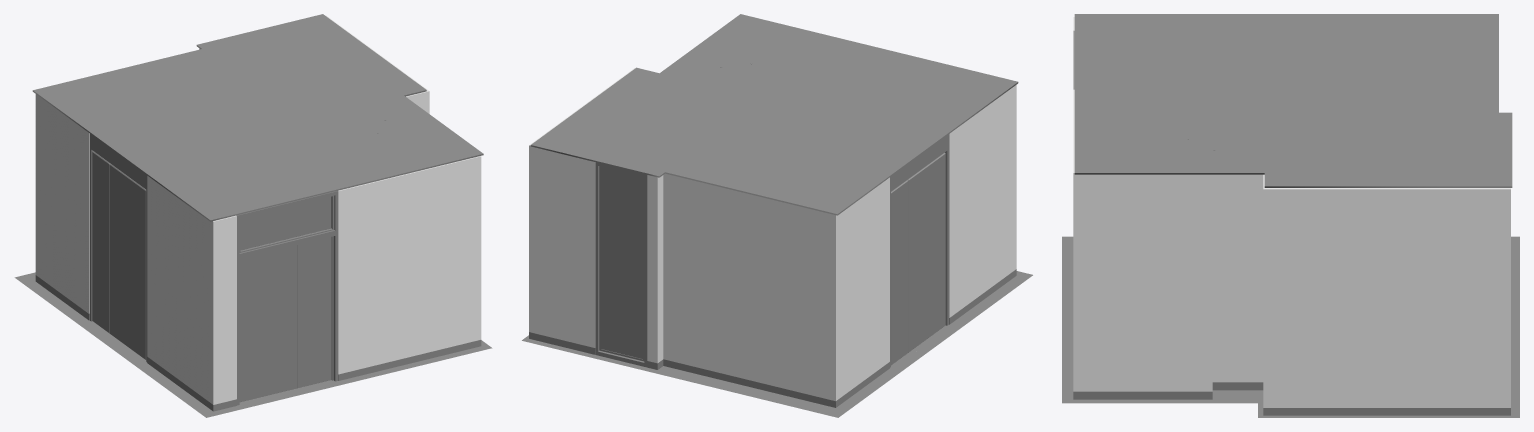
File: WARD2-Polar-BurnsTreatment_01.FBX
3 renders of one model, left to right at view 1: azimuth 30°, elevation 25°; view 2: azimuth 150°, elevation 25°; view 3: azimuth 270°, elevation 25°, orthographic. The views are drawn at different scales.
Parts seen in each view (by area): view 1: Wall_01, Ceiling_01, Door_01, Door_02, Floor_01; view 2: Wall_01, Ceiling_01, Door_02, Window_01, Floor_01; view 3: Wall_01, Ceiling_01, Floor_01.
Part boxes in pixels (x1=…): Wall_01: x1=35, y1=15, x2=481, y2=411; Ceiling_01: x1=32, y1=14, x2=483, y2=221; Door_01: x1=236, y1=191, x2=337, y2=405; Door_02: x1=89, y1=133, x2=147, y2=362; Floor_01: x1=14, y1=272, x2=492, y2=417; Wall_01: x1=529, y1=68, x2=1016, y2=407; Ceiling_01: x1=530, y1=14, x2=1018, y2=215; Door_02: x1=890, y1=134, x2=948, y2=367; Window_01: x1=595, y1=162, x2=647, y2=367; Floor_01: x1=522, y1=271, x2=1032, y2=417; Wall_01: x1=1073, y1=17, x2=1510, y2=415; Ceiling_01: x1=1074, y1=14, x2=1512, y2=187; Floor_01: x1=1062, y1=236, x2=1519, y2=417.
Bounding box in the file's own units: 463 × 275 × 494.
